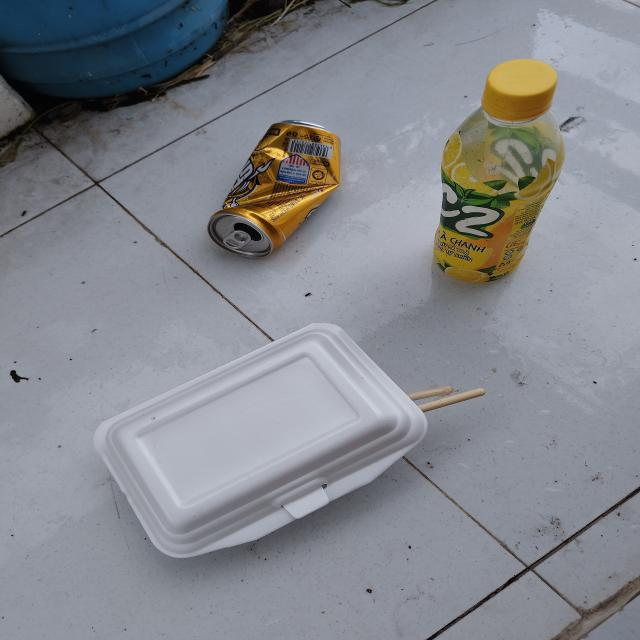bottle: (431, 58, 565, 285)
can: (208, 119, 343, 259)
foam box: (94, 321, 430, 559)
